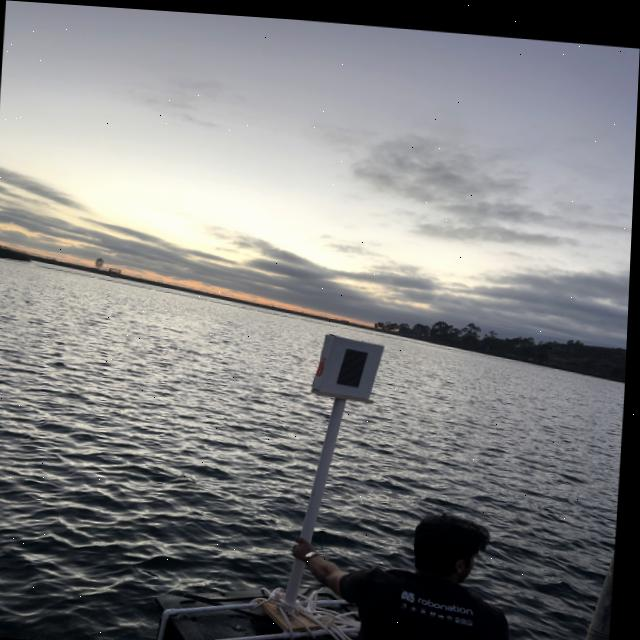led: (330, 339, 383, 395)
